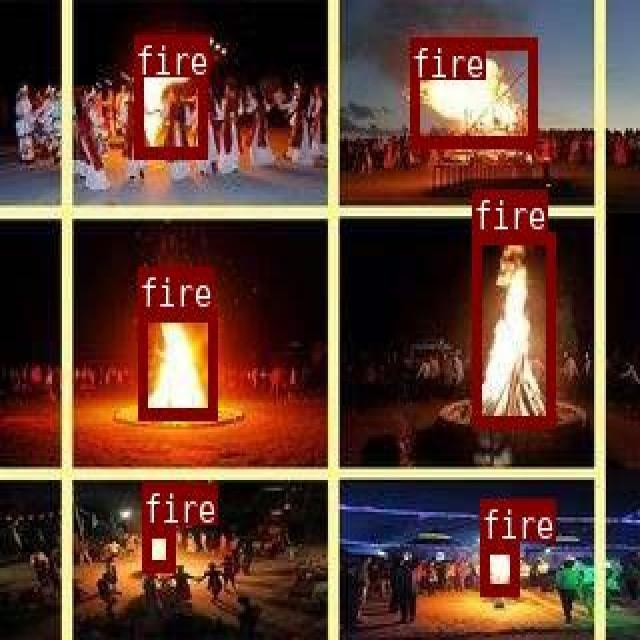fire: (470, 230, 553, 426), (409, 35, 535, 144), (133, 33, 205, 155), (138, 309, 215, 416), (479, 539, 516, 594), (141, 524, 173, 569)
